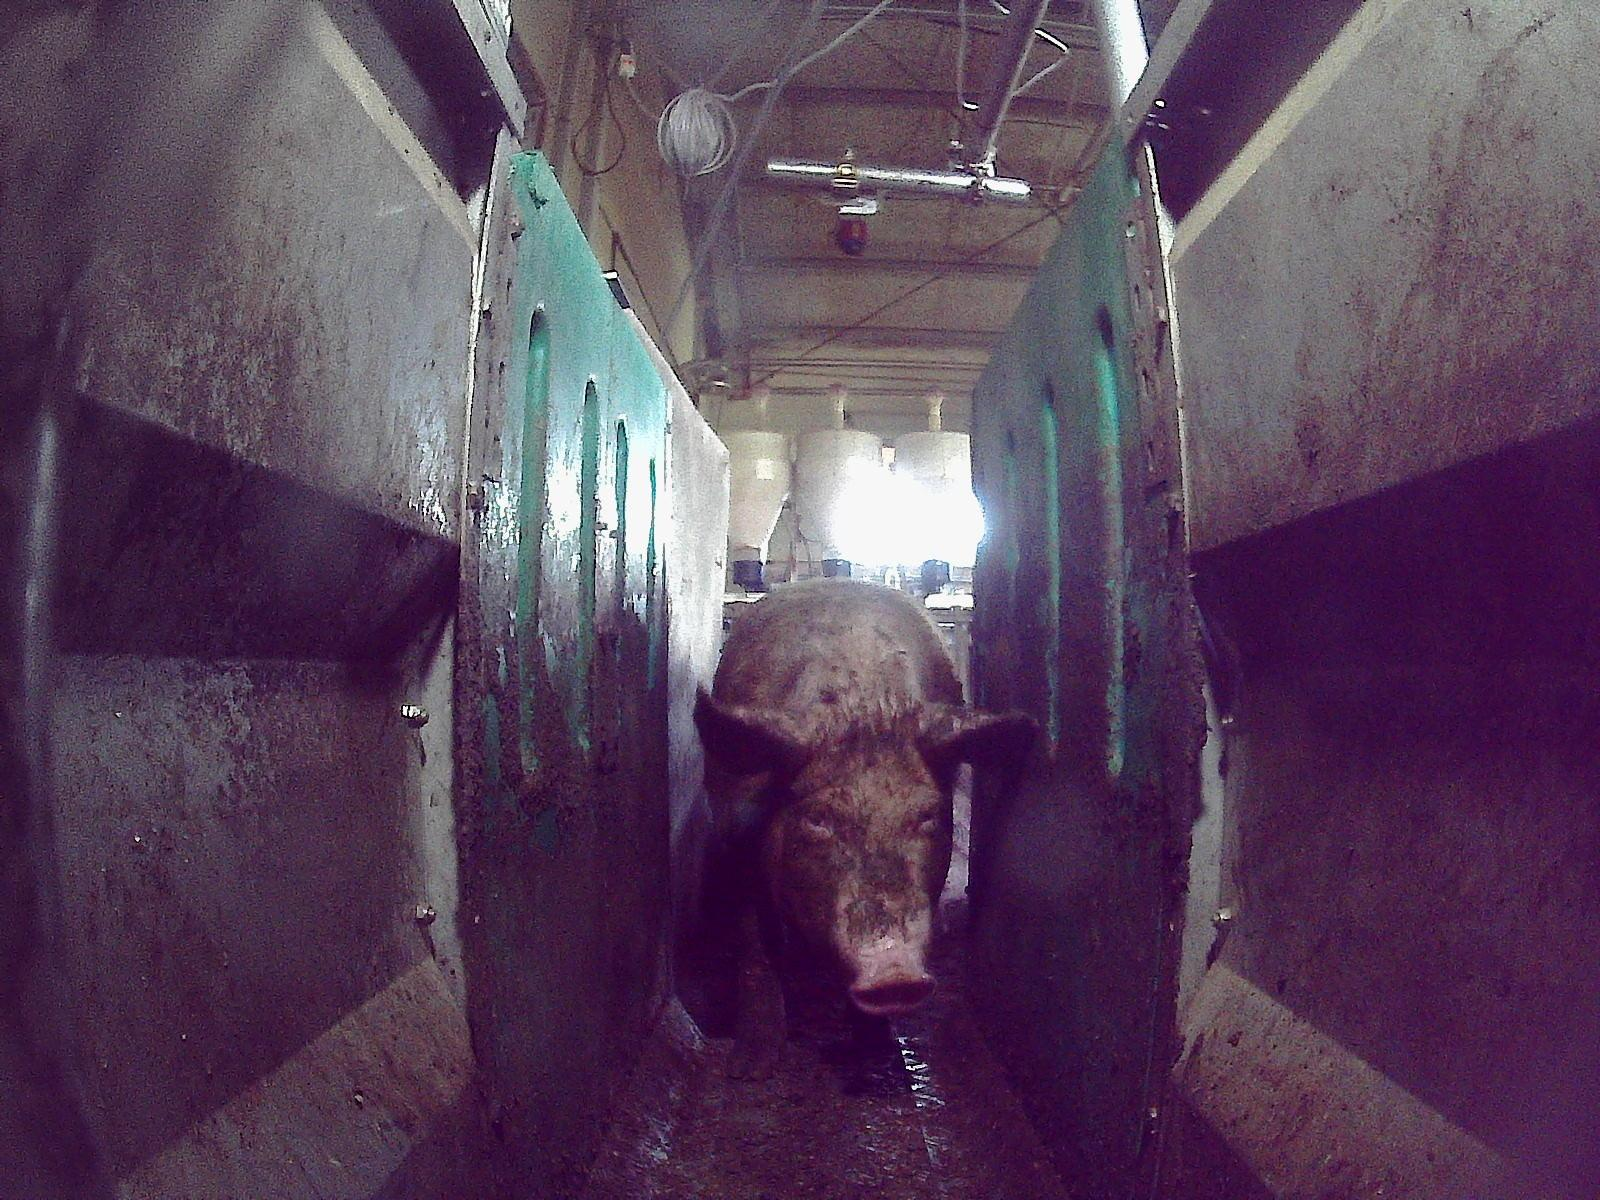Face: (758, 702, 952, 1012)
